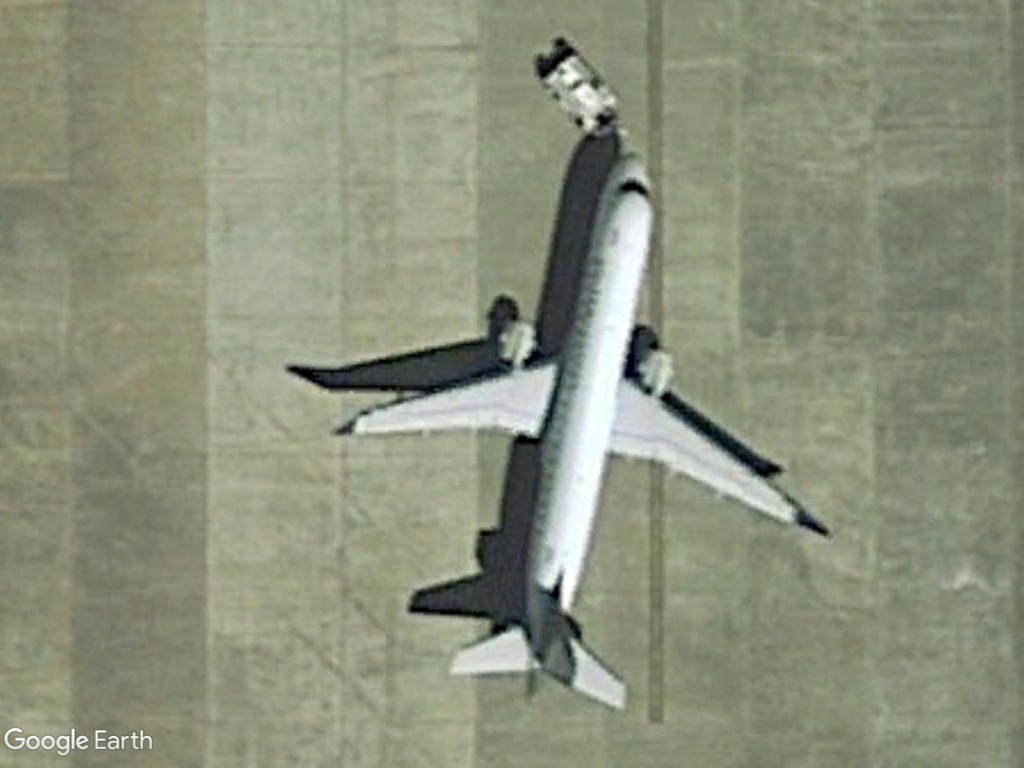airliner: (320, 144, 820, 726)
pushbacktruck: (538, 44, 624, 151)
